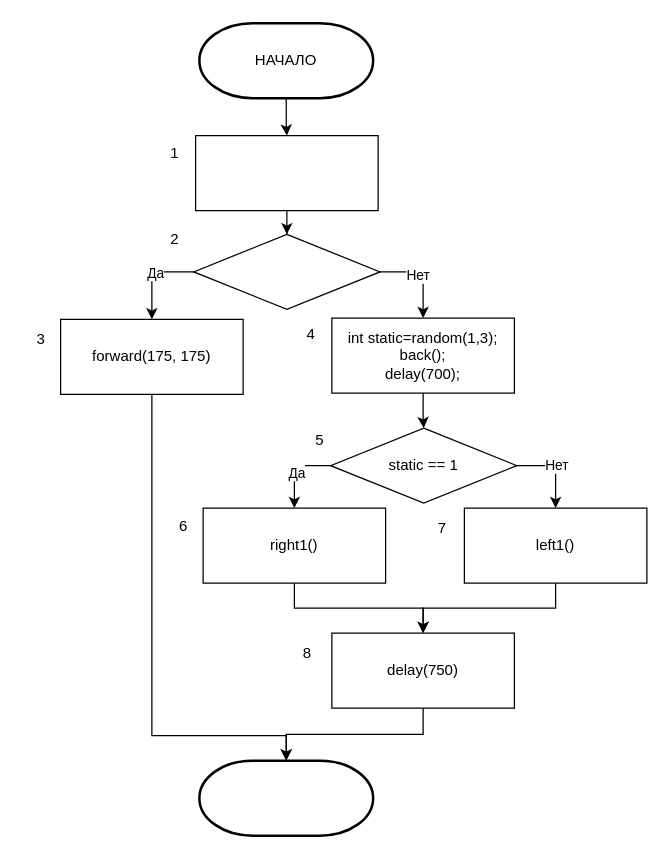
This 669x858 diagram has some shape labels left out. Here are the shapes that lost their labels. From the top down, the centre of each, then its label:
At pixel 286 172: "int flag = sonar.ping_cm()".
At pixel 286 271: "flag >=9 || flag == 0".
At pixel 286 797: "КОНЕЦ".
